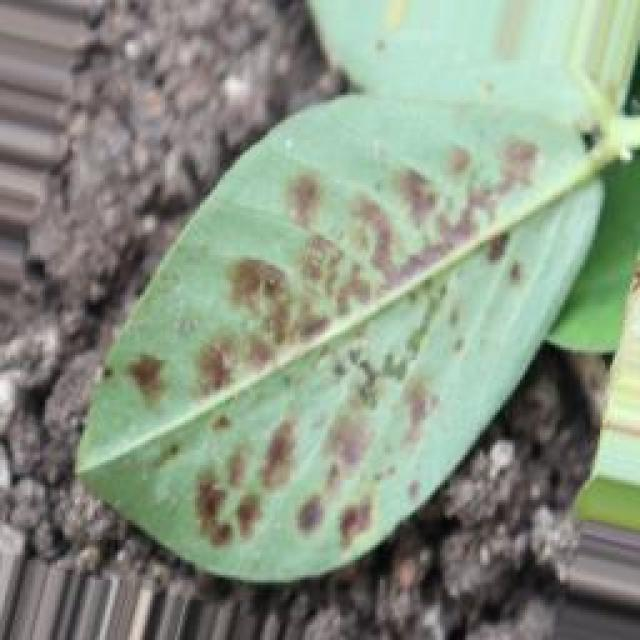Whitefly: (63, 20, 616, 588)
